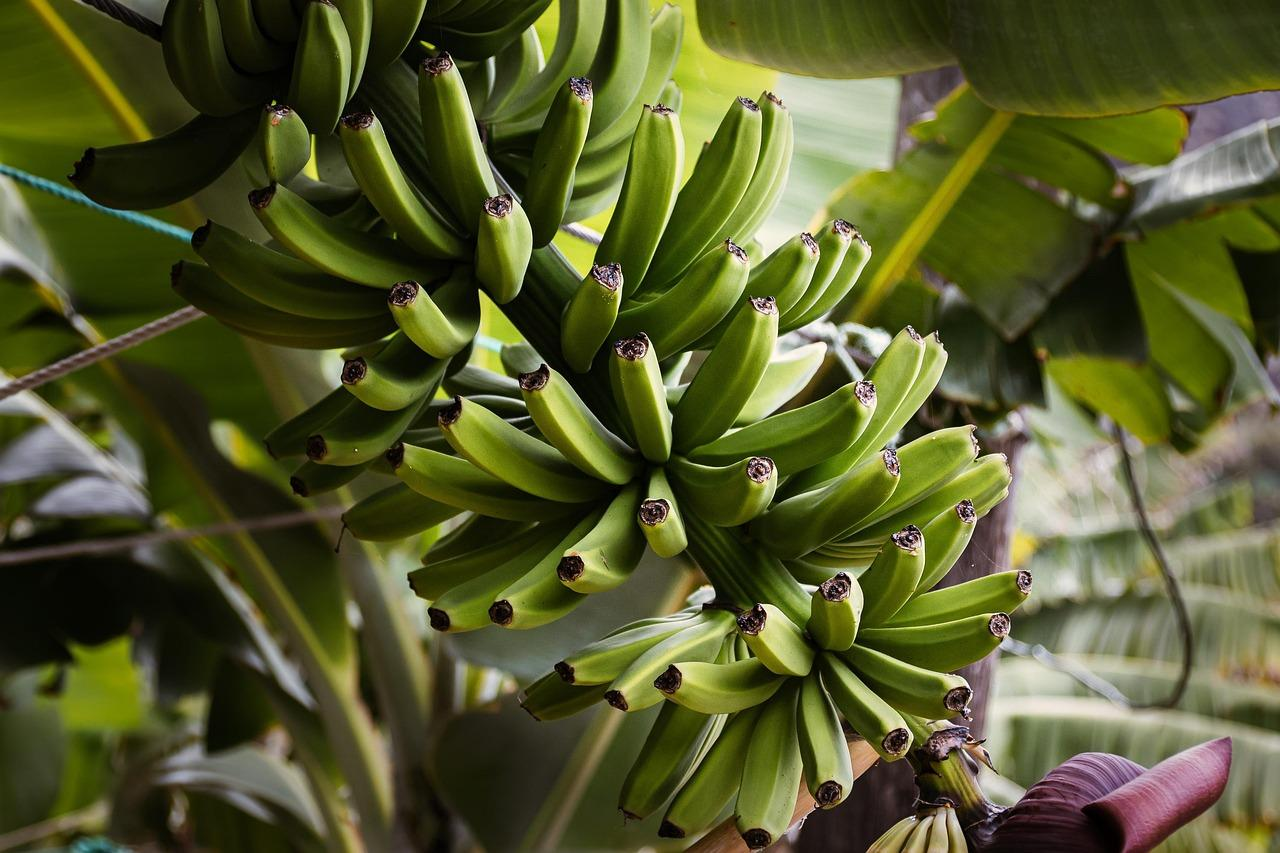banana: (58, 0, 1061, 847)
